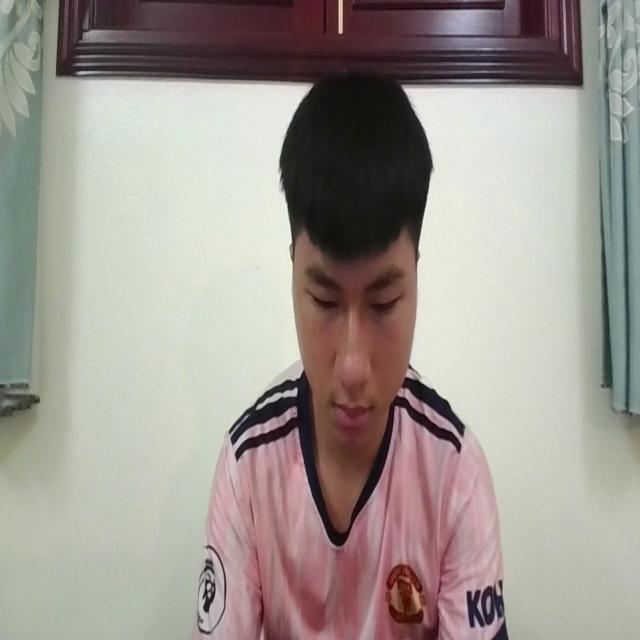student: (193, 59, 508, 640)
